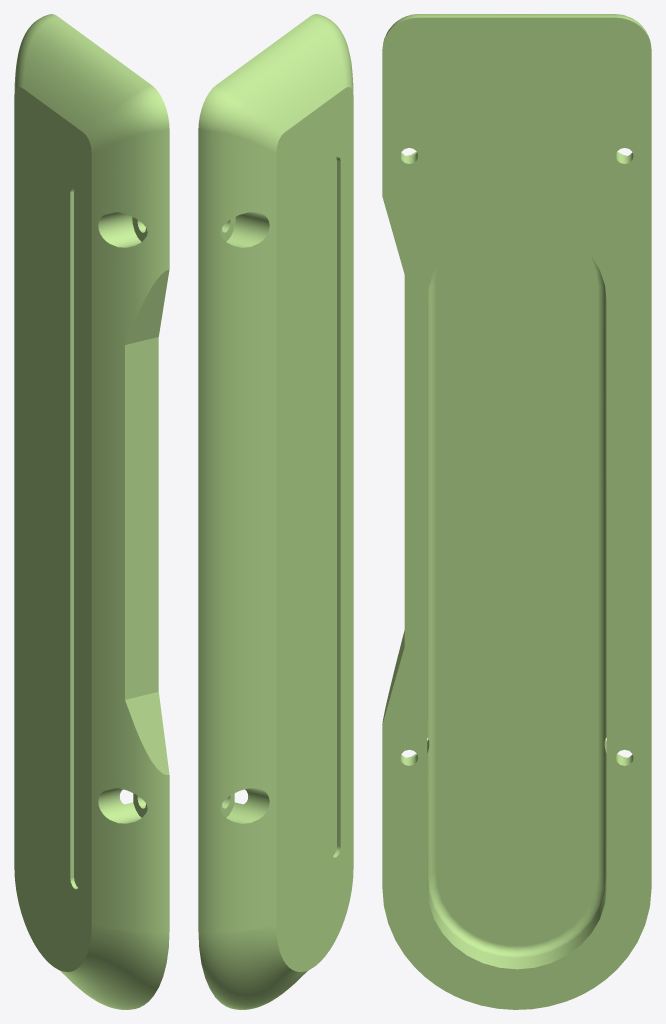
The model's file is Main_CaseOutside_4.dae.
3 renders of one model, left to right at view 1: azimuth 30°, elevation 25°; view 2: azimuth 150°, elevation 25°; view 3: azimuth 270°, elevation 25°, orthographic. The views are drawn at different scales.
Visible parts, largest first — view 1: Main_CaseOutside_4; view 2: Main_CaseOutside_4; view 3: Main_CaseOutside_4.
Boxes of the visible parts, left/top/right/bottom form: Main_CaseOutside_4: left=14, top=14, right=169, bottom=1009; Main_CaseOutside_4: left=198, top=14, right=353, bottom=1009; Main_CaseOutside_4: left=382, top=14, right=651, bottom=1009.
Bounding box in the file's own units: 0.007 × 0.03 × 0.122.
